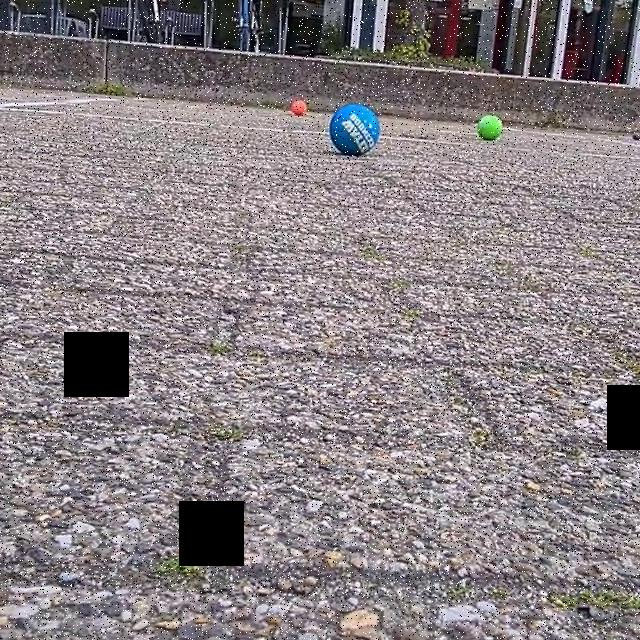ball: (475, 113, 502, 143)
